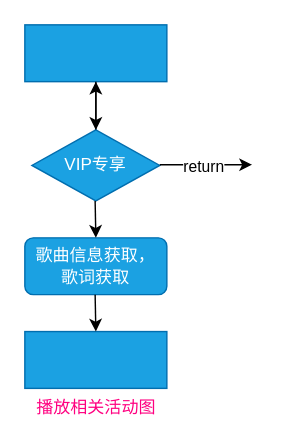
This 288x447 diagram has some shape labels left out. The box of each missing label's shape, as (x1, y1, x2, y2) in pixels:
开始播放: (23, 330, 167, 388)
点击播放: (23, 23, 167, 82)
